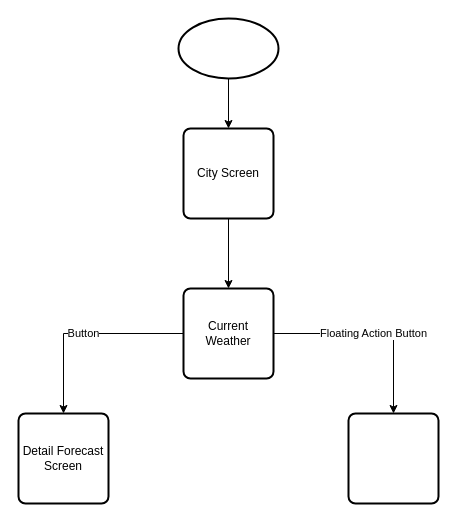
Image size: 456x521. Some labels were removed from this diagram. Each missing label, with the centre of its shape:
"Get Recomendation By AI" belongs at point 393,458.
"Get Started" belongs at point 228,48.
